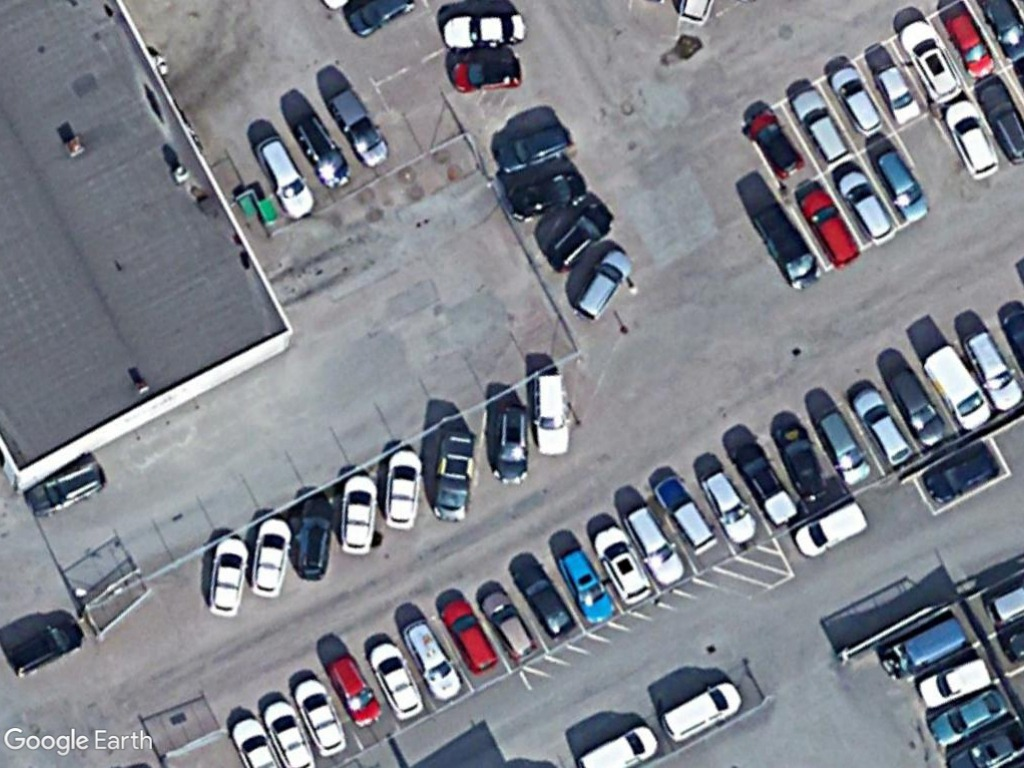car: (323, 83, 395, 175), (897, 14, 966, 106), (848, 383, 919, 471), (399, 617, 469, 705), (540, 198, 617, 277), (620, 503, 690, 588), (22, 454, 109, 522), (253, 134, 320, 222), (959, 326, 1024, 416), (651, 473, 720, 557), (4, 612, 88, 681), (799, 179, 864, 268), (788, 84, 856, 169), (437, 595, 505, 678), (509, 562, 580, 641), (551, 545, 619, 627), (590, 524, 657, 607), (475, 583, 542, 666), (922, 686, 1010, 747), (770, 418, 833, 501), (696, 466, 760, 547), (887, 368, 950, 450), (292, 675, 352, 761), (925, 442, 1004, 507), (366, 637, 427, 721), (504, 166, 592, 224), (942, 97, 1002, 182), (291, 115, 356, 193), (322, 653, 386, 732), (812, 408, 875, 488), (836, 163, 897, 245), (571, 245, 635, 322), (744, 105, 807, 183), (827, 61, 888, 140), (871, 142, 930, 223), (491, 122, 575, 178), (914, 655, 997, 711), (290, 490, 340, 581), (942, 7, 1001, 82), (202, 532, 251, 621), (246, 513, 294, 602), (261, 698, 319, 768), (531, 367, 574, 461), (338, 471, 384, 557), (381, 445, 425, 532), (490, 400, 535, 485), (440, 11, 532, 52), (450, 52, 527, 99), (872, 60, 923, 127)
other: (749, 202, 828, 295), (731, 439, 799, 527), (429, 430, 479, 522)
van: (920, 339, 993, 432), (657, 678, 745, 747), (877, 614, 969, 679), (794, 498, 868, 561), (578, 719, 659, 768)
